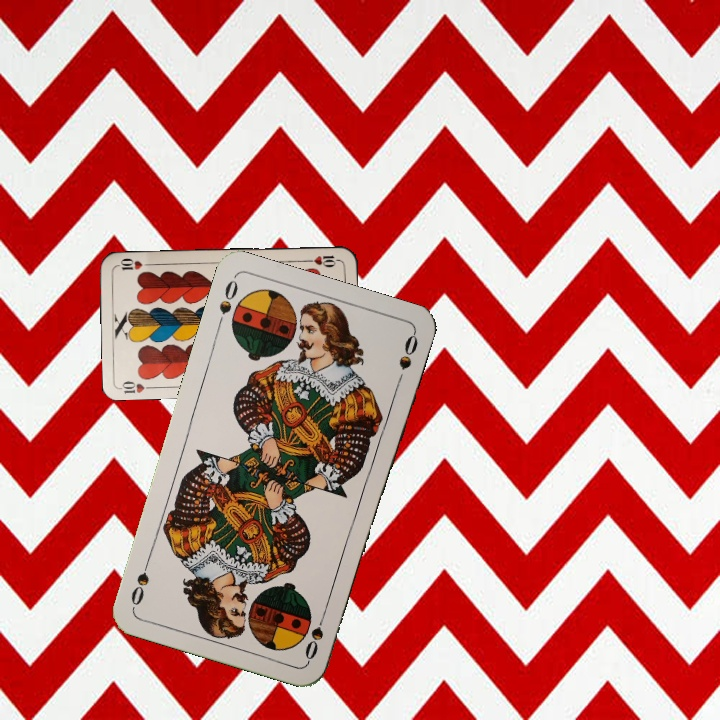H10: (302, 251, 343, 269), (117, 377, 158, 395)
SO: (301, 605, 330, 663), (212, 276, 241, 332)
